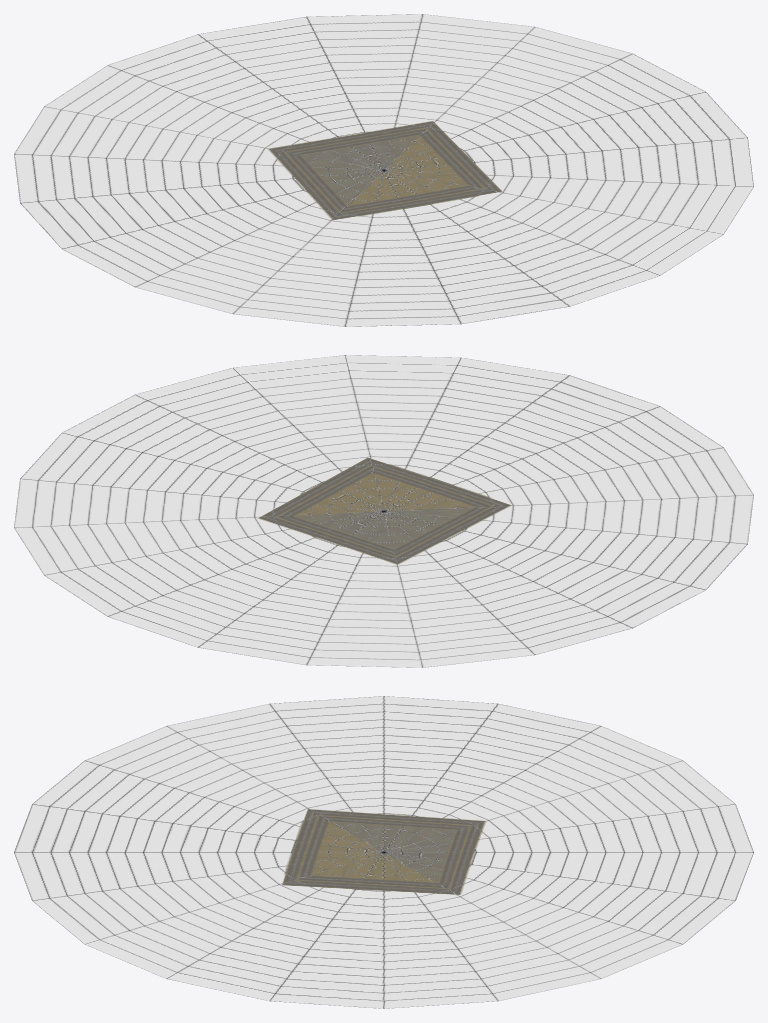
Rendered from floor.fbx.
The picture shows the model from 3 angles, top to bottom: view 1: azimuth 30°, elevation 25°; view 2: azimuth 150°, elevation 25°; view 3: azimuth 270°, elevation 25°; orthographic projection.
Parts seen in each view (by area): view 1: GameFloor; view 2: GameFloor; view 3: GameFloor.
Boxes of the visible parts, left/top/right/bottom form: GameFloor: left=14, top=14, right=753, bottom=326; GameFloor: left=14, top=355, right=753, bottom=667; GameFloor: left=14, top=696, right=753, bottom=1008.
Size of the model in its own units: 2 by 0 by 2.
1 material, 1 textured.
